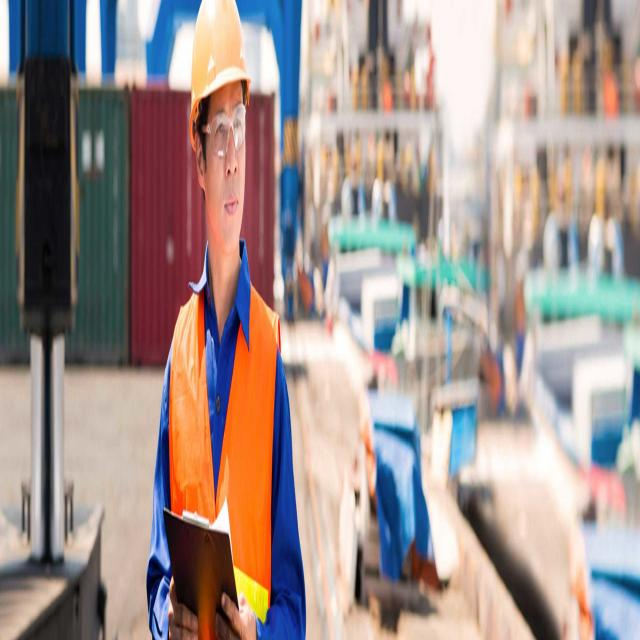Reflective-Jacket: (166, 275, 282, 636)
Safety-Helmet: (188, 1, 250, 140)
